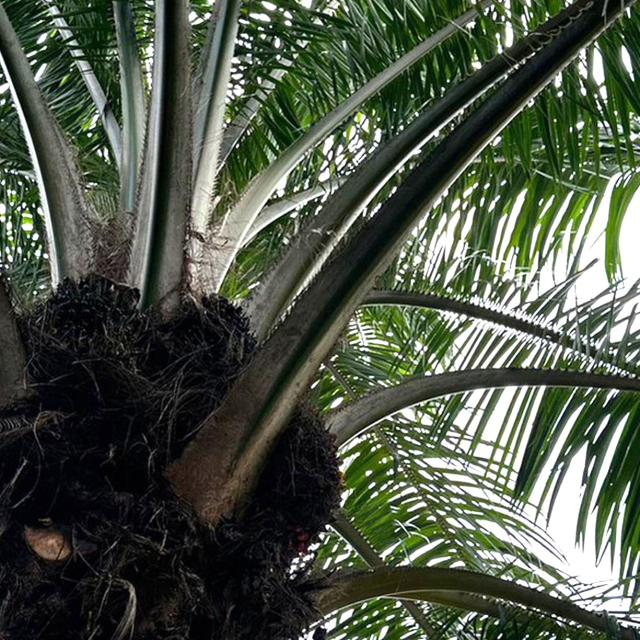ripe: (220, 384, 363, 569)
